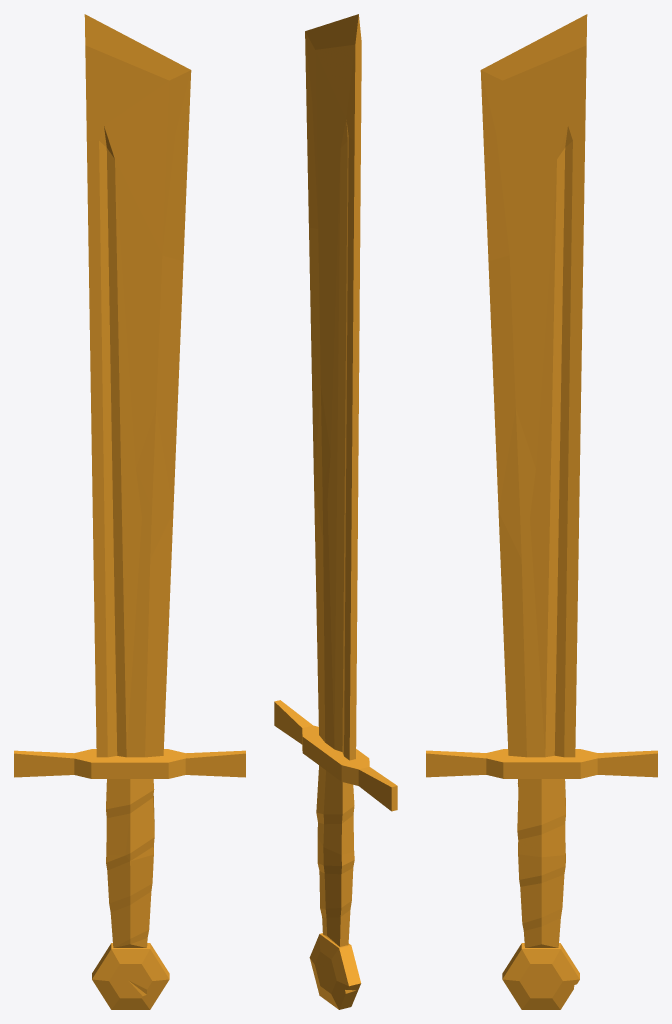
File: SM_Sword_Falshion_A.fbx
3 views of the same model, side by side, from view 1: azimuth 90°, elevation 25°; view 2: azimuth 210°, elevation 25°; view 3: azimuth 270°, elevation 25° (orthographic).
Parts seen in each view (by area): view 1: sword-falshion-a; view 2: sword-falshion-a; view 3: sword-falshion-a.
Boxes of the visible parts, bbox=[...] form: sword-falshion-a: bbox=[14, 14, 245, 1009]; sword-falshion-a: bbox=[274, 14, 397, 1009]; sword-falshion-a: bbox=[426, 14, 657, 1009].
Bounding box in the file's own units: 0.026 × 0.8974 × 0.1899.
